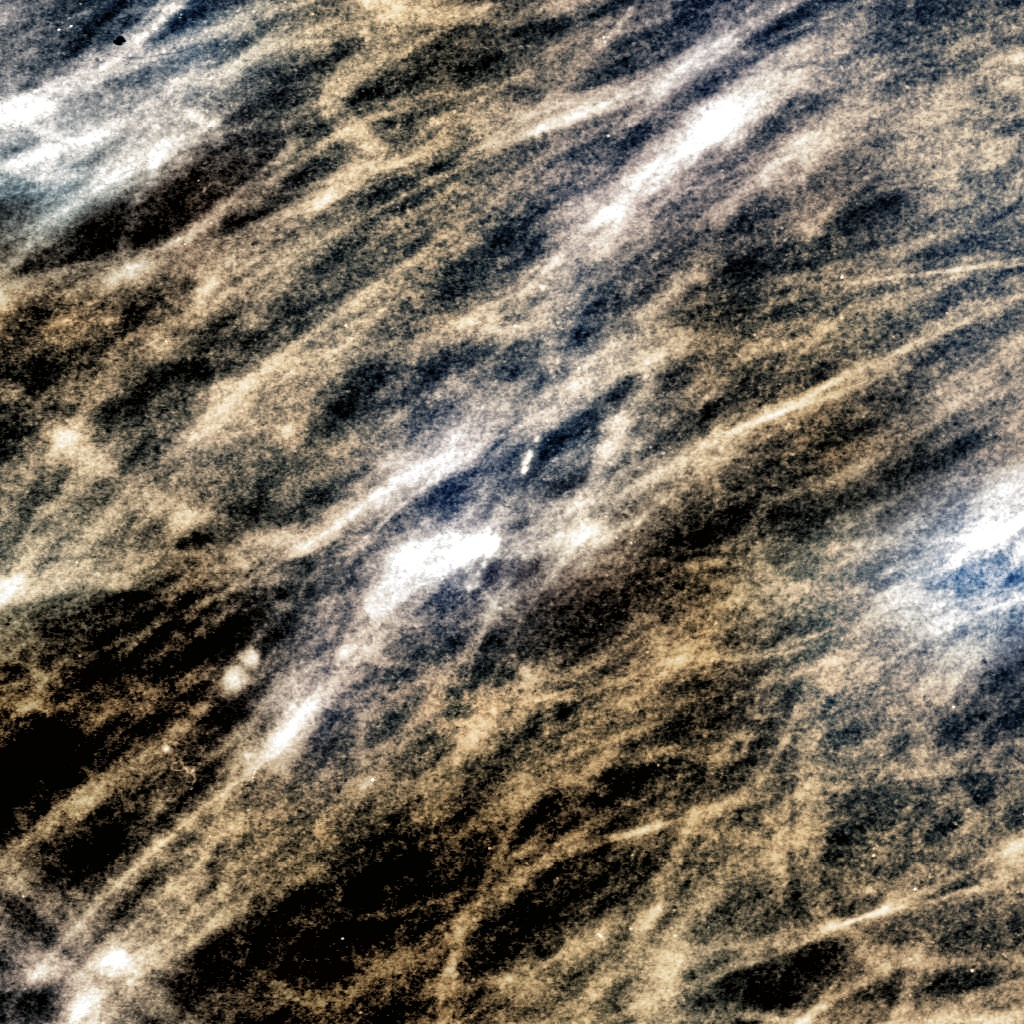tumor: (420, 381, 604, 643)
